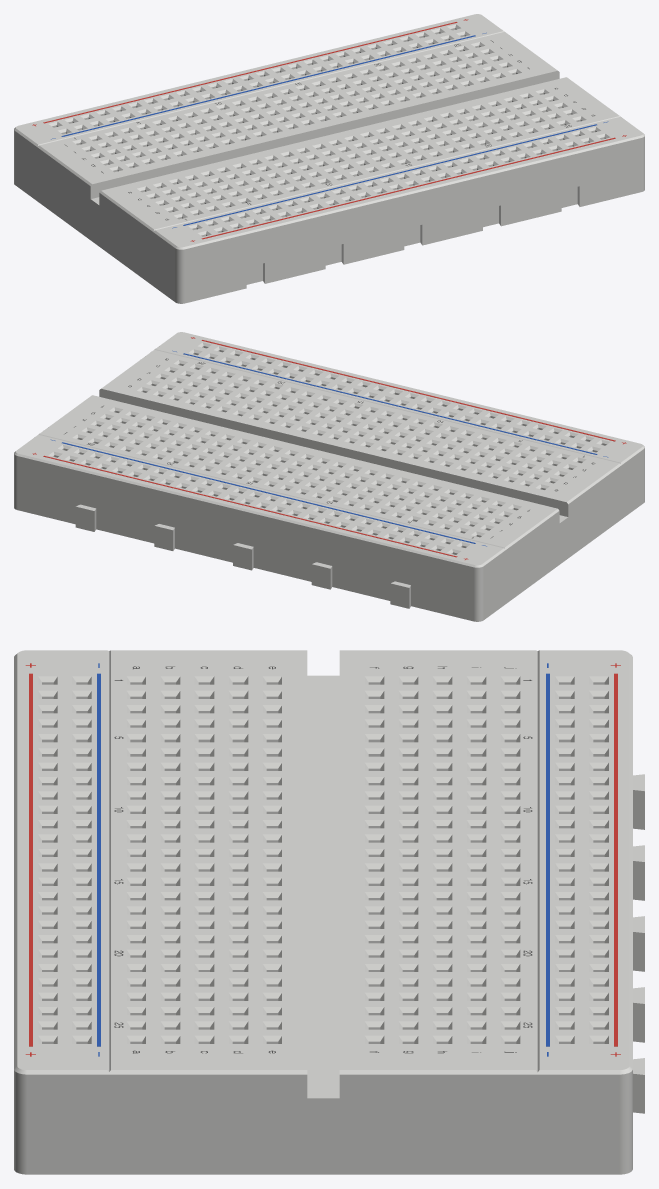
Rendered from breadboard.glb.
The picture shows the model from 3 angles, top to bottom: view 1: azimuth 30°, elevation 25°; view 2: azimuth 150°, elevation 25°; view 3: azimuth 270°, elevation 25°; orthographic projection. The views are drawn at different scales.
Visible parts, largest first — view 1: breadboard; view 2: breadboard; view 3: breadboard.
Boxes of the visible parts, x1,y1,x2,y2 form: breadboard: (14,14,644,303); breadboard: (14,332,644,621); breadboard: (14,650,644,1174).
Size of the model in its own units: 74.68 by 8.52 by 47.12.
